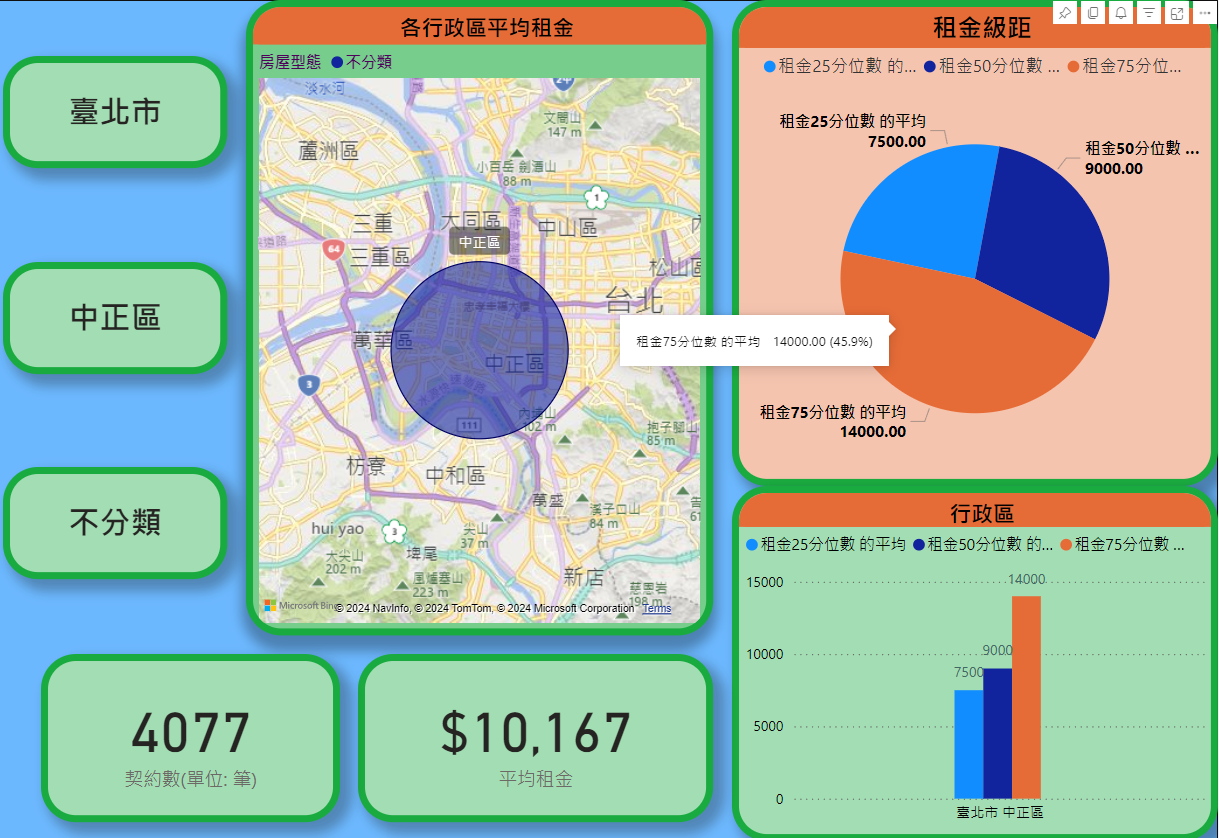

The page's visual inventory and layout, read from the dashboard file:
{"tool":"powerbi","page":{"name":"第 1 頁","canvas":[1280,720],"ordinal":0},"visuals":[{"type":"slicer","title":"請選擇縣市","fields":{"Values":["分房屋型態租金統計.縣市"]},"box":[16,96,192,104],"z":0},{"type":"slicer","title":"請選擇區域","fields":{"Values":["分房屋型態租金統計.行政區"]},"box":[16,256,192,104],"z":1000},{"type":"slicer","title":"房屋型態","fields":{"Values":["分房屋型態租金統計.房屋型態"]},"box":[16,432,192,104],"z":2000},{"type":"pieChart","title":"租金級距","fields":{"Y":["Avg(分房屋型態租金統計.租金25分位數)","Avg(分房屋型態租金統計.租金50分位數)","Avg(分房屋型態租金統計.租金75分位數)"]},"box":[864,0,416,416],"z":3000},{"type":"map","title":"各行政區平均租金","fields":{"Category":["分房屋型態租金統計.行政區","分房屋型態租金統計.縣市"],"Series":["分房屋型態租金統計.房屋型態"],"Size":["Avg(分房屋型態租金統計.平均租金)"]},"box":[448,0,400,544],"z":4000},{"type":"actionButton","box":[0,0,100,40],"z":5000},{"type":"clusteredColumnChart","title":"行政區","fields":{"Category":["分房屋型態租金統計.縣市","分房屋型態租金統計.行政區"],"Y":["Avg(分房屋型態租金統計.租金25分位數)","Avg(分房屋型態租金統計.租金50分位數)","Avg(分房屋型態租金統計.租金75分位數)"]},"box":[864,416,416,304],"z":6000},{"type":"card","fields":{"Values":["Avg(分房屋型態租金統計.平均租金)"]},"box":[544,560,304,144],"z":7000},{"type":"card","fields":{"Values":["Min(分房屋型態租金統計.房屋型態)"]},"box":[240,400,192,96],"z":8000},{"type":"card","fields":{"Values":["Sum(分房屋型態租金統計.契約數)"]},"box":[272,560,256,144],"z":9000},{"type":"card","fields":{"Values":["Min(分房屋型態租金統計.行政區)"]},"box":[240,224,192,96],"z":10000},{"type":"card","fields":{"Values":["Min(分房屋型態租金統計.縣市)"]},"box":[240,48,192,96],"z":11000},{"type":"actionButton","box":[48,576,128,64],"z":12000}]}

Visuals, with their boxes on the page's 1280x720 design canvas (x1, y1, x2, y2). These are canvas units, not pixel positions in the 1219x838 screenshot, which may show the page scaled, cropped or inside an application window:
"請選擇縣市" slicer: bbox=[16, 96, 208, 200]
"請選擇區域" slicer: bbox=[16, 256, 208, 360]
"房屋型態" slicer: bbox=[16, 432, 208, 536]
"租金級距" pieChart: bbox=[864, 0, 1280, 416]
"各行政區平均租金" map: bbox=[448, 0, 848, 544]
actionButton: bbox=[0, 0, 100, 40]
"行政區" clusteredColumnChart: bbox=[864, 416, 1280, 720]
card - Avg(分房屋型態租金統計.平均租金): bbox=[544, 560, 848, 704]
card - Min(分房屋型態租金統計.房屋型態): bbox=[240, 400, 432, 496]
card - Sum(分房屋型態租金統計.契約數): bbox=[272, 560, 528, 704]
card - Min(分房屋型態租金統計.行政區): bbox=[240, 224, 432, 320]
card - Min(分房屋型態租金統計.縣市): bbox=[240, 48, 432, 144]
actionButton: bbox=[48, 576, 176, 640]
